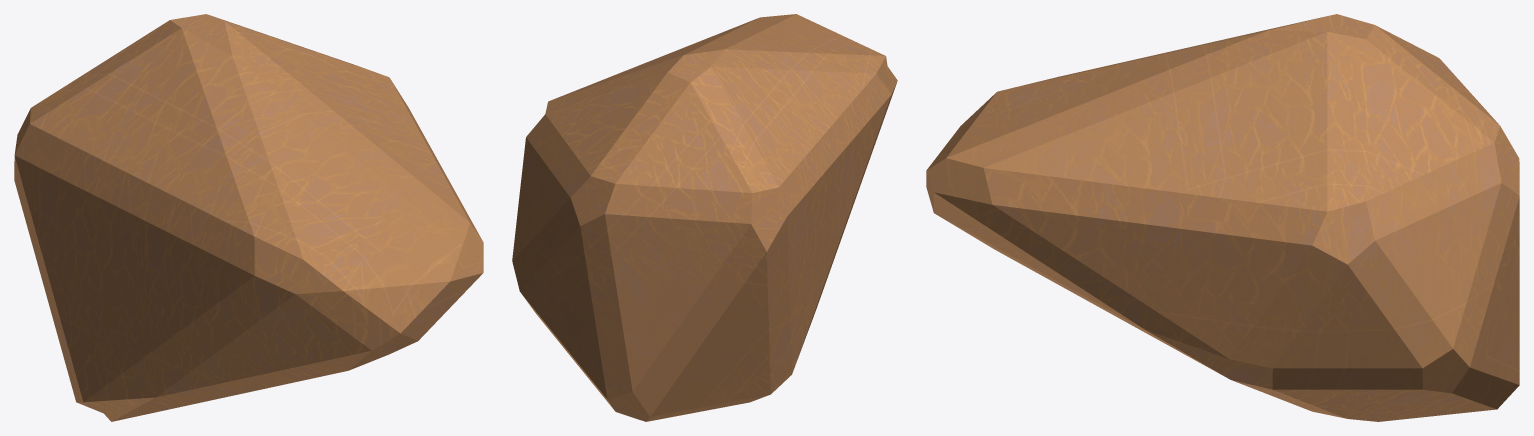
Rendered from Rock_2.fbx.
3 renders of one model, left to right at view 1: azimuth 30°, elevation 25°; view 2: azimuth 150°, elevation 25°; view 3: azimuth 270°, elevation 25°, orthographic. The views are drawn at different scales.
Visible parts, largest first — view 1: Rock_2; view 2: Rock_2; view 3: Rock_2.
Boxes of the visible parts, x1,y1,x2,y2 form: Rock_2: (14,14,483,421); Rock_2: (512,14,897,421); Rock_2: (926,14,1519,421).
Bounding box in the file's own units: 387 × 407 × 564.
